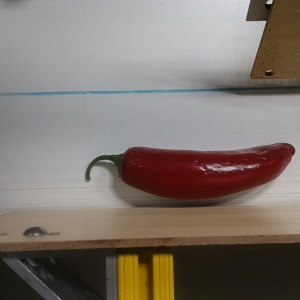Cut Point: (107, 145, 143, 187)
